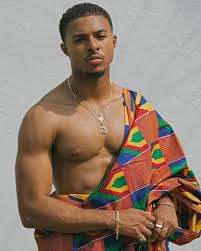person: (58, 3, 118, 83)
